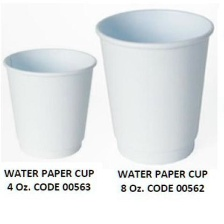paper_cup: (91, 3, 218, 168), (0, 43, 99, 164)
